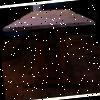Mesa: (0, 4, 99, 93)
